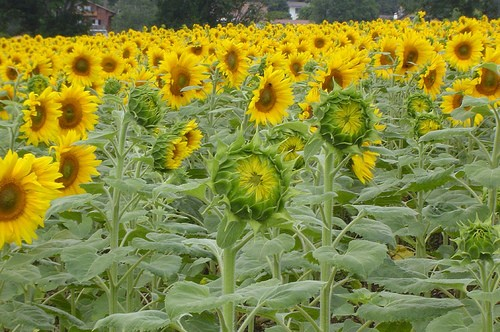flower: (0, 147, 66, 254), (40, 82, 101, 148), (156, 47, 212, 109), (245, 64, 295, 129), (16, 86, 66, 148), (445, 33, 485, 71)
